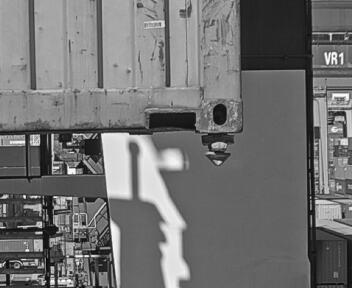twist_lock_2: (156, 125, 204, 176)
